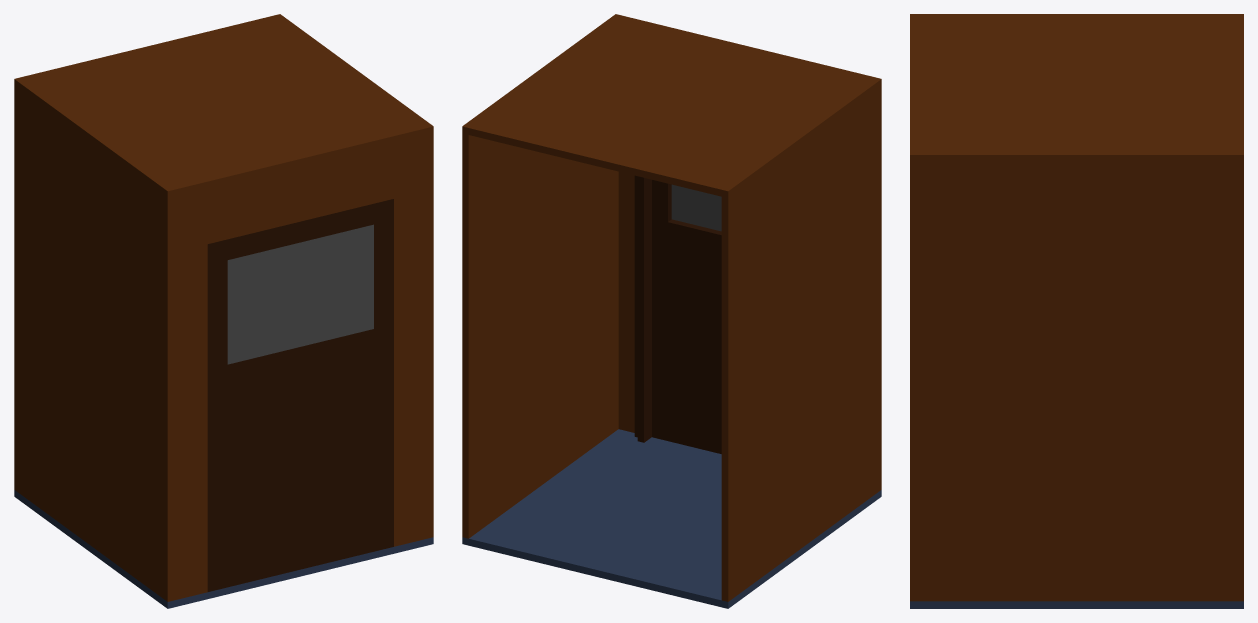
Rendered from Level1-5.obj.
3 views of the same model, side by side, from view 1: azimuth 30°, elevation 25°; view 2: azimuth 150°, elevation 25°; view 3: azimuth 270°, elevation 25° (orthographic). The views are drawn at different scales.
Parts seen in each view (by area): view 1: Level1-5; view 2: Level1-5; view 3: Level1-5.
Boxes of the visible parts, x1,y1,x2,y2 form: Level1-5: [14, 14, 433, 608]; Level1-5: [462, 14, 881, 608]; Level1-5: [910, 14, 1243, 608].
Bounding box in the file's own units: 40 × 60 × 40.
Materials: 1 (1 with a texture image).
